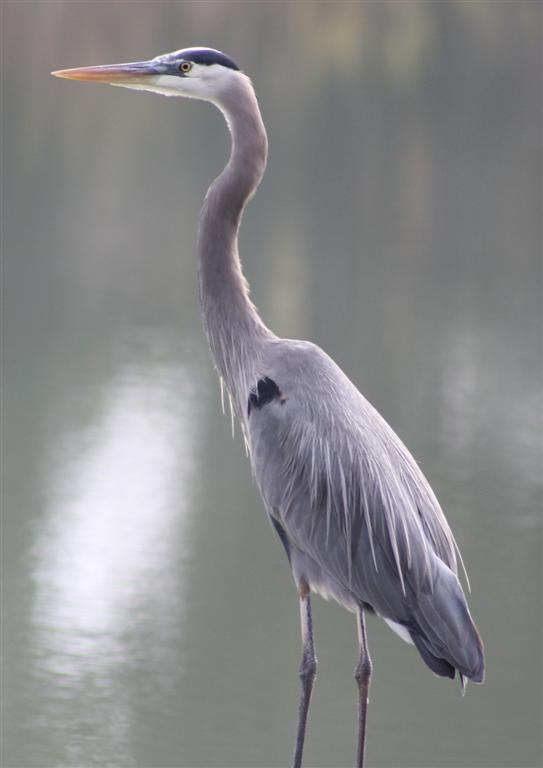heron: (45, 47, 487, 768)
